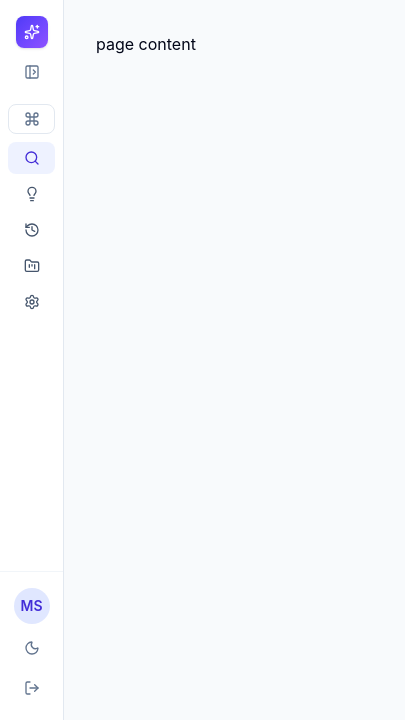
Test: desktop sidebar › starts collapsed on medium screens until the user expands it
Click the button named "Expand sidebar" at (32, 72), box left=16, top=56, right=48, bottom=88
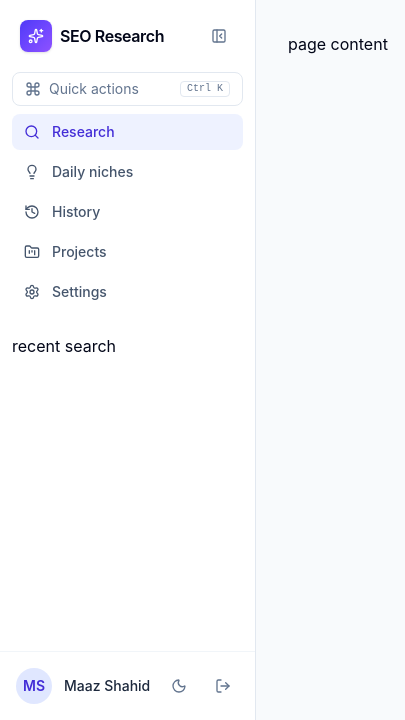
Check: the button "recent search" is shown, box left=12, top=334, right=116, bottom=358
